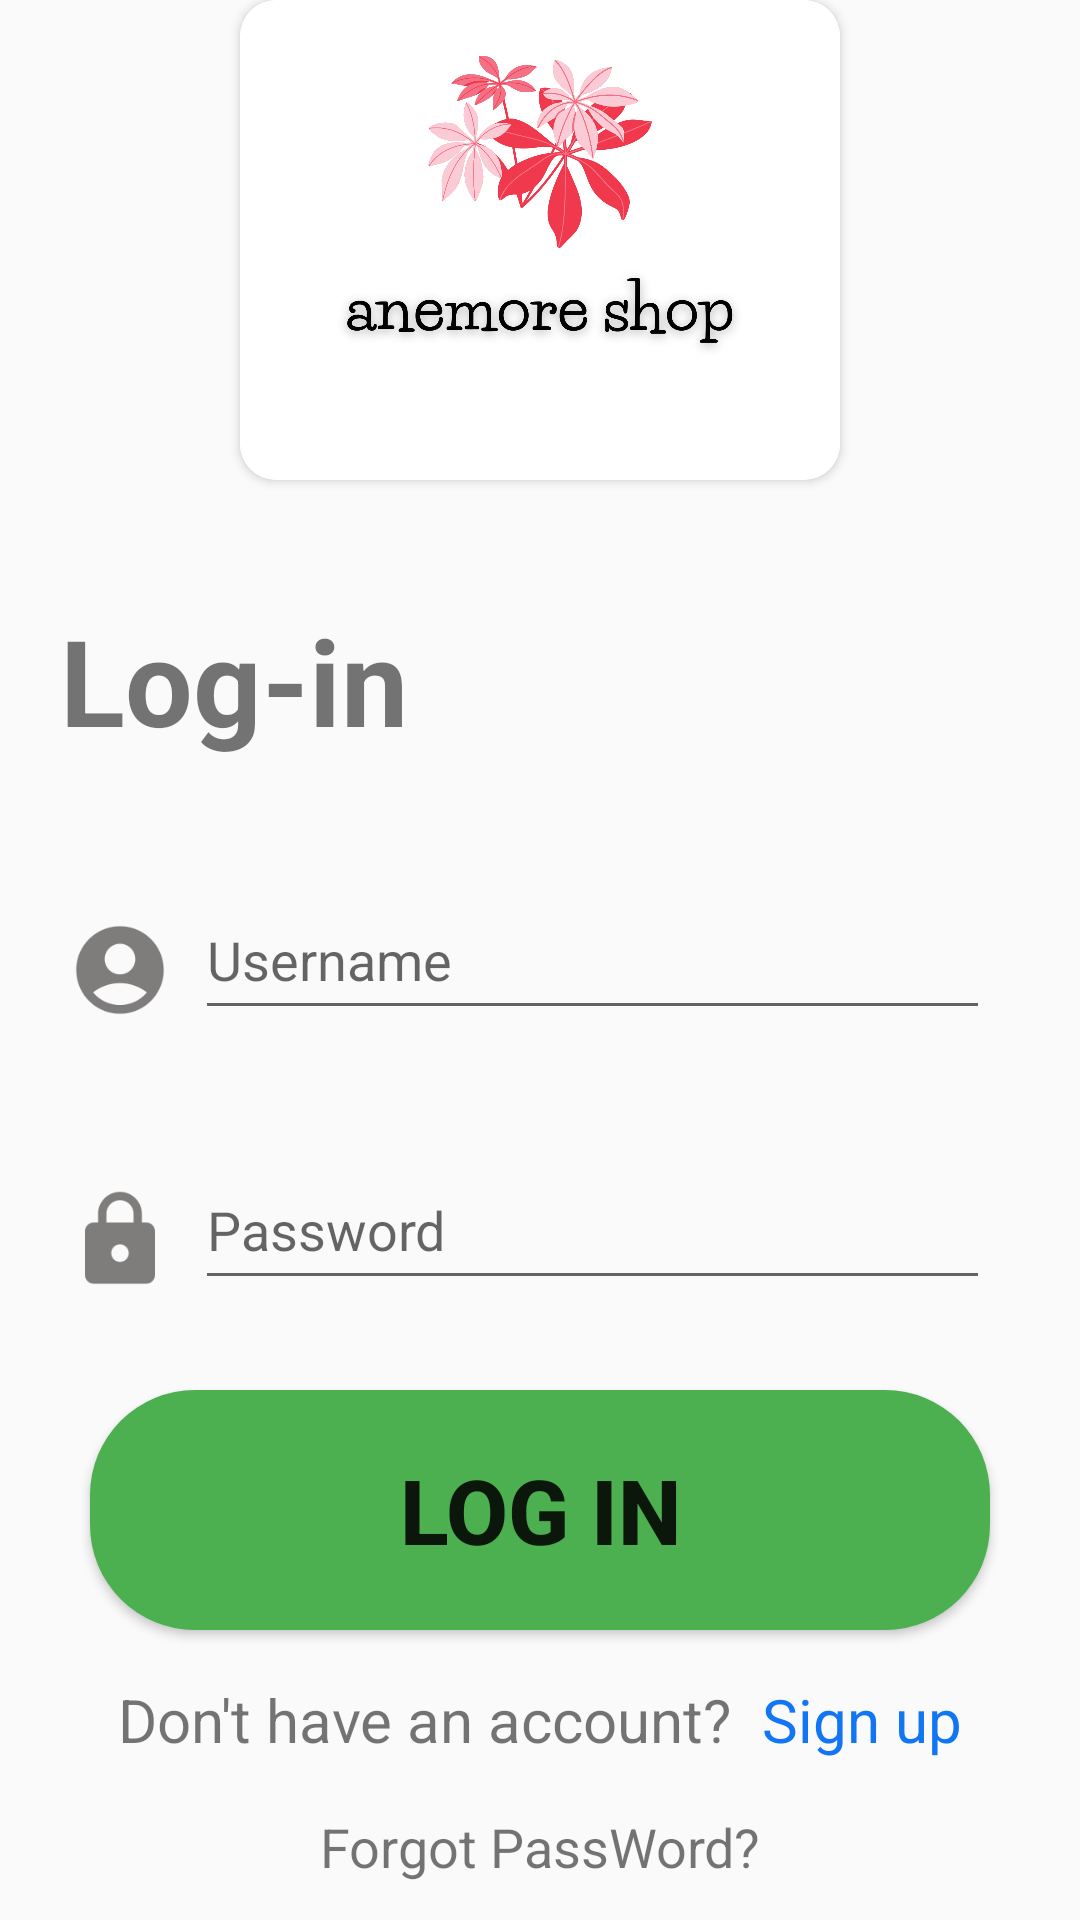

Icons on this 1080 × 1920 Android screen, each with its box as rect(x1, y1, x2, y2):
lock: rect(85, 1191, 155, 1284)
